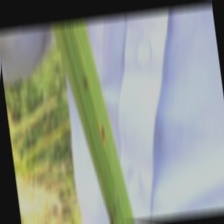Bacterial_Leaf_Blight: (107, 200, 117, 224), (98, 121, 108, 144), (78, 73, 90, 92)
